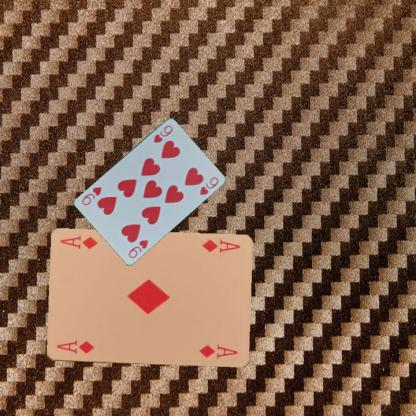9h: (151, 122, 174, 144), (126, 237, 149, 259)
Ad: (199, 237, 242, 255), (54, 338, 95, 356)
